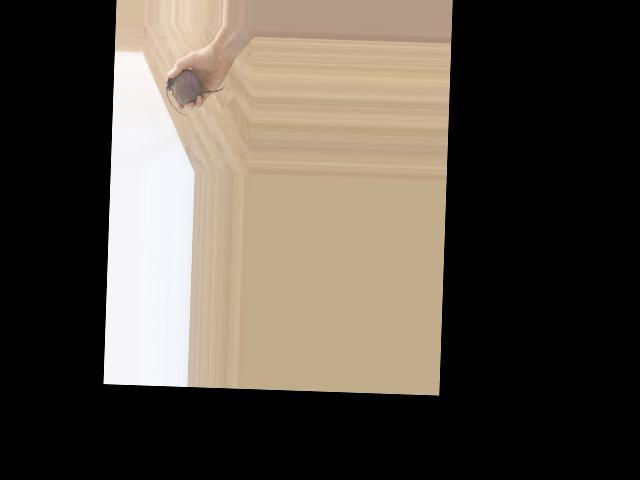beet: (164, 68, 225, 117)
